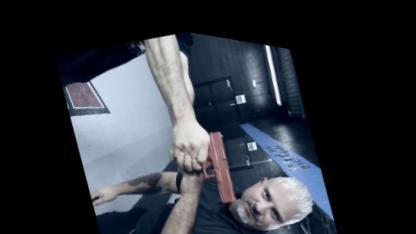pistol: (190, 118, 249, 204)
